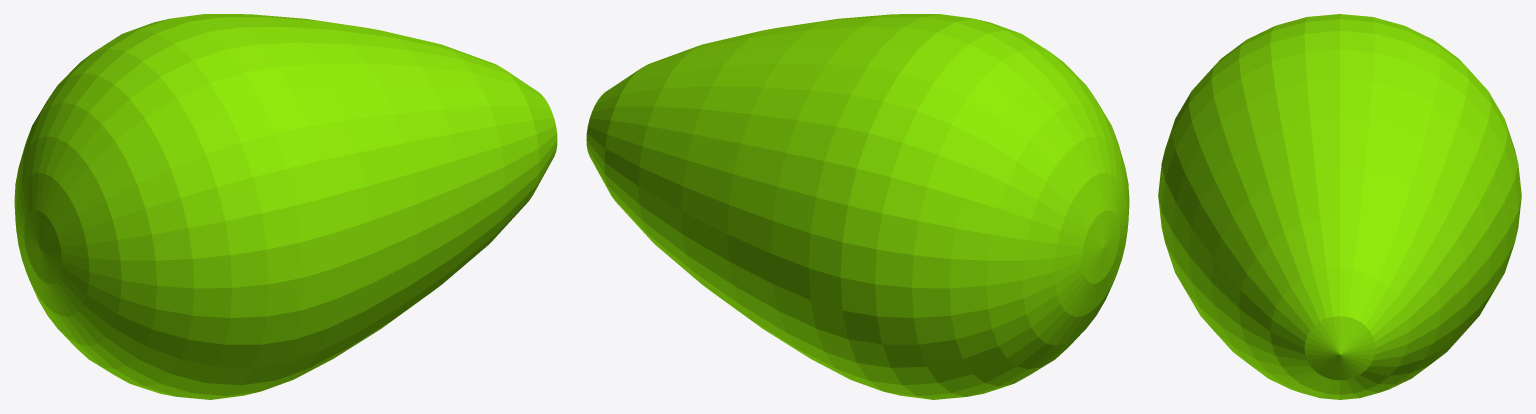
File: slimeKopet.fbx
3 views of the same model, side by side, from view 1: azimuth 30°, elevation 25°; view 2: azimuth 150°, elevation 25°; view 3: azimuth 270°, elevation 25° (orthographic). The views are drawn at different scales.
Visible parts, largest first — view 1: Sphere; view 2: Sphere; view 3: Sphere.
Part boxes in pixels (<box>): Sphere: <box>14,14,557,399</box>; Sphere: <box>586,14,1129,399</box>; Sphere: <box>1158,14,1521,399</box>.
Bounding box in the file's own units: 3.07 × 2 × 2.
